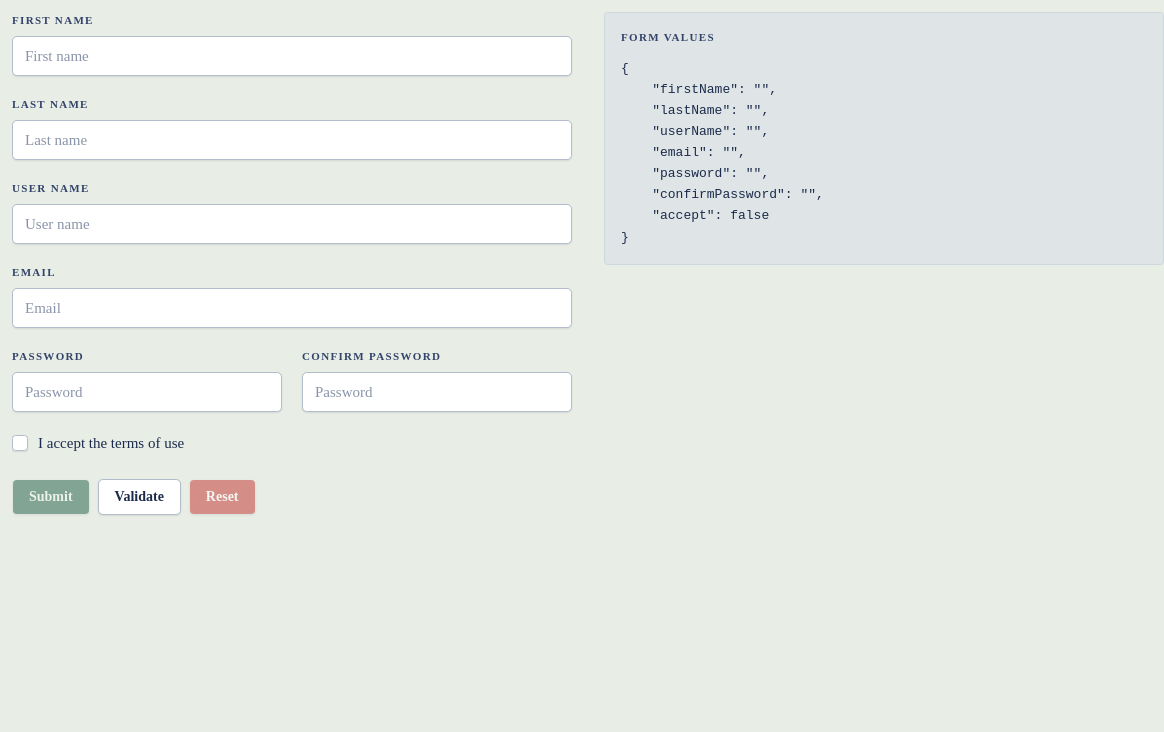
it: SignUpValidationForm › While editing › shows a field error only once that field is edited
The width and height of the screenshot is (1164, 732).
Type "Al" into the field labelled "First name".
click(292, 56); type("Al")  # box [12,36,572,76]
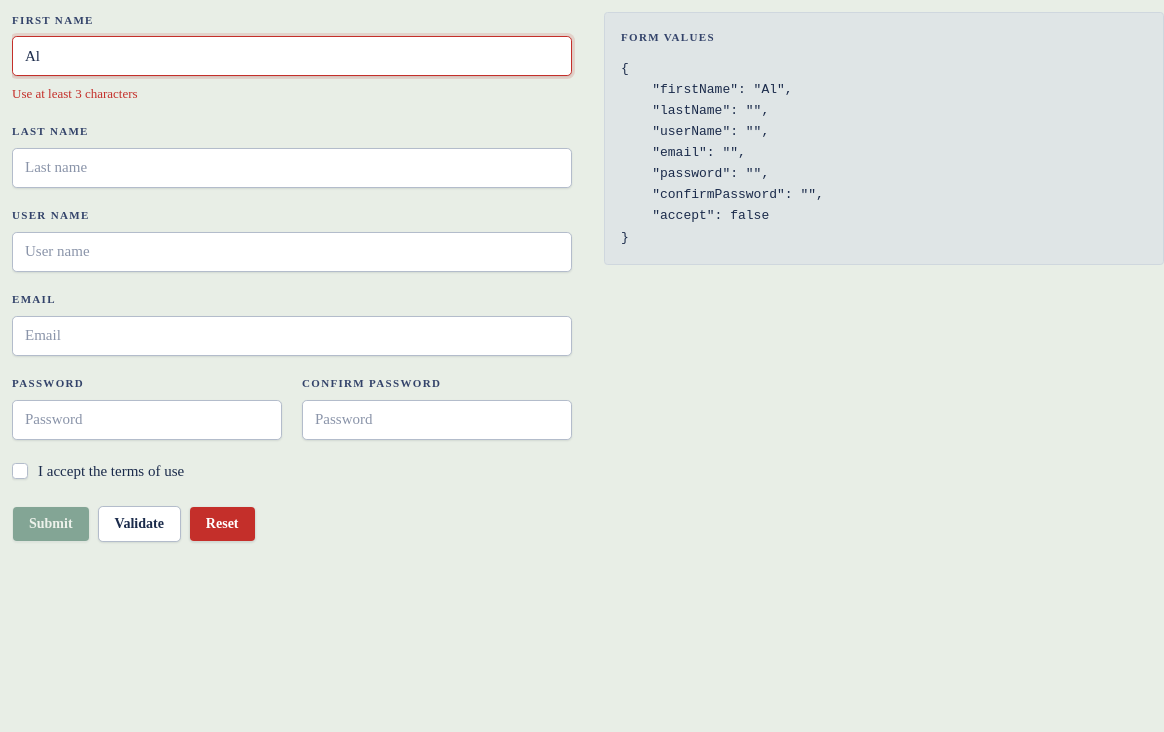
Now the text "Use at least 3 characters" is shown, box [12,86,138,101]
